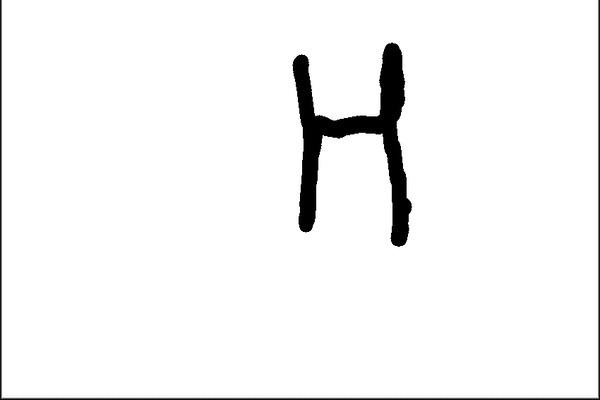H: (277, 28, 417, 254)
